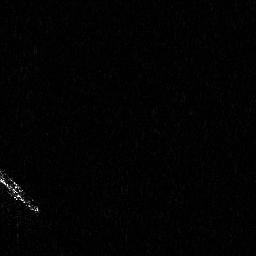ship: (1, 167, 42, 214)
